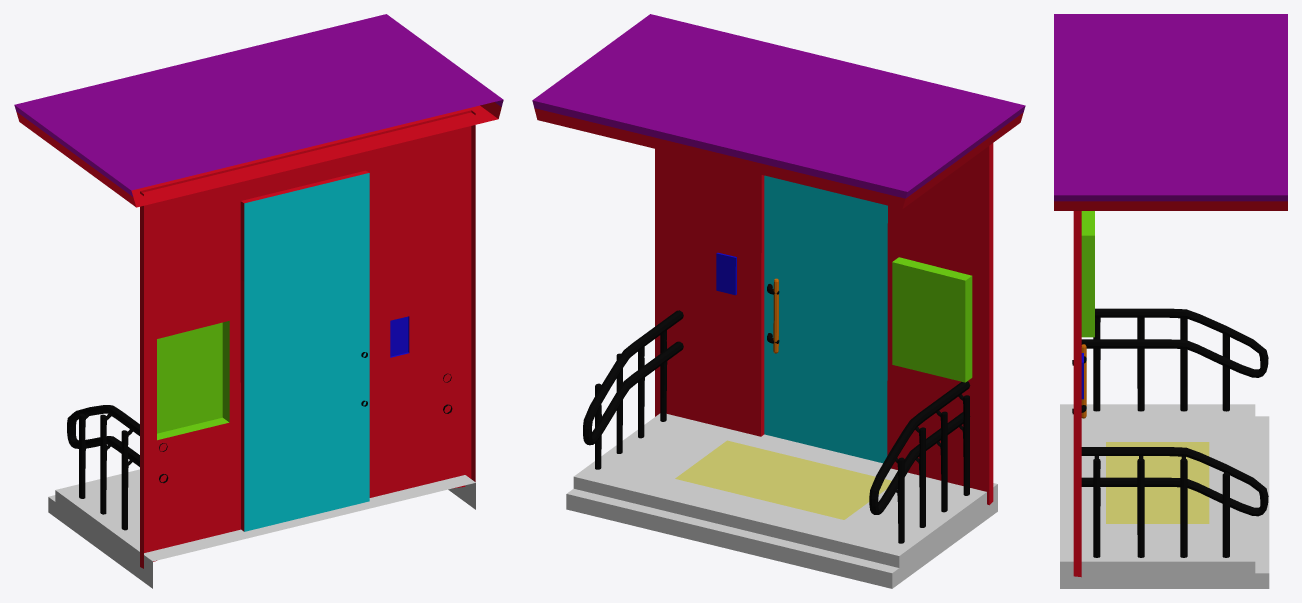
Rendered from glass entrance low.fbx.
3 renders of one model, left to right at view 1: azimuth 30°, elevation 25°; view 2: azimuth 150°, elevation 25°; view 3: azimuth 270°, elevation 25°, orthographic.
Parts seen in each view (by area): view 1: Plane; view 2: Plane; view 3: Plane.
Boxes of the visible parts, x1,y1,x2,y2 form: Plane: (14, 14, 503, 588); Plane: (532, 14, 1025, 588); Plane: (1054, 14, 1287, 588).
Bounding box in the file's own units: 138 × 145 × 75.27.
